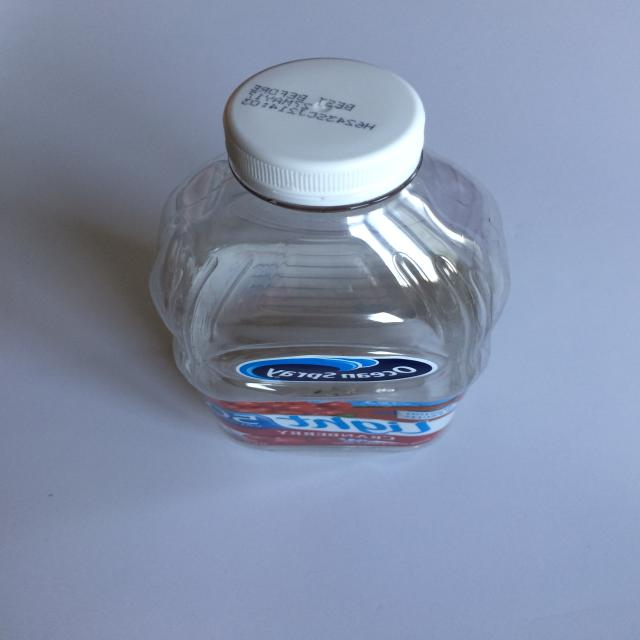plastic: (148, 56, 513, 451)
